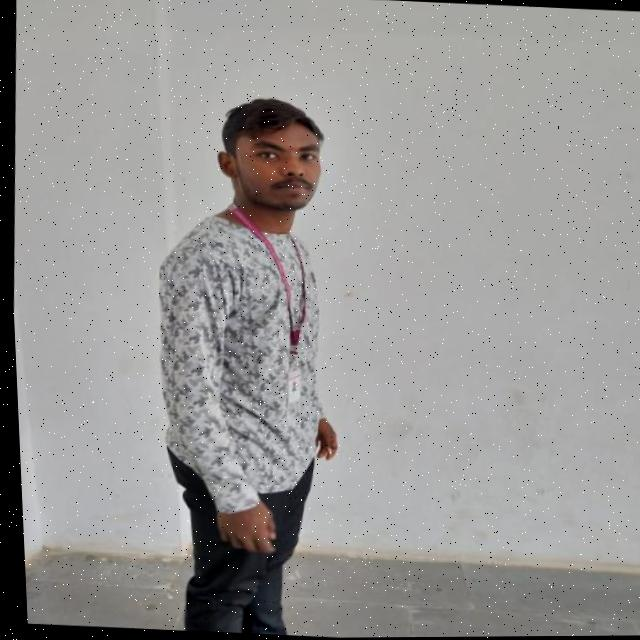id_card: (219, 195, 319, 411)
